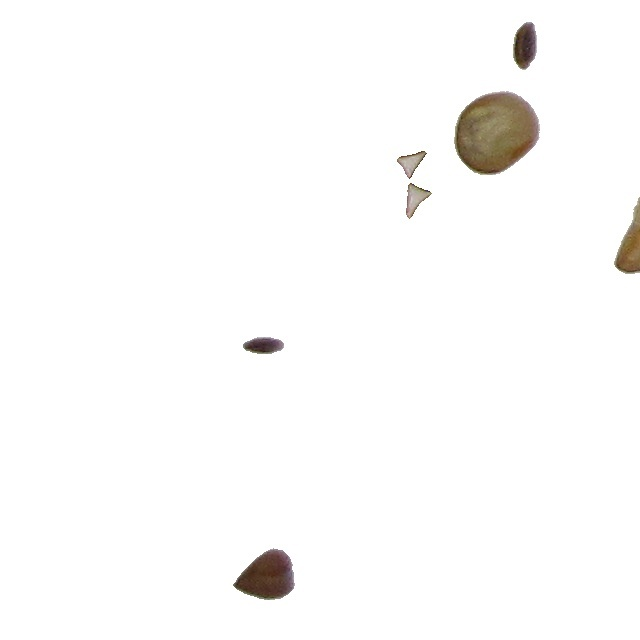buckwheat: (235, 547, 299, 601), (512, 21, 538, 71), (242, 336, 285, 355)
mais: (453, 90, 541, 176)
other: (613, 185, 640, 275), (405, 182, 433, 220), (403, 160, 428, 180)
